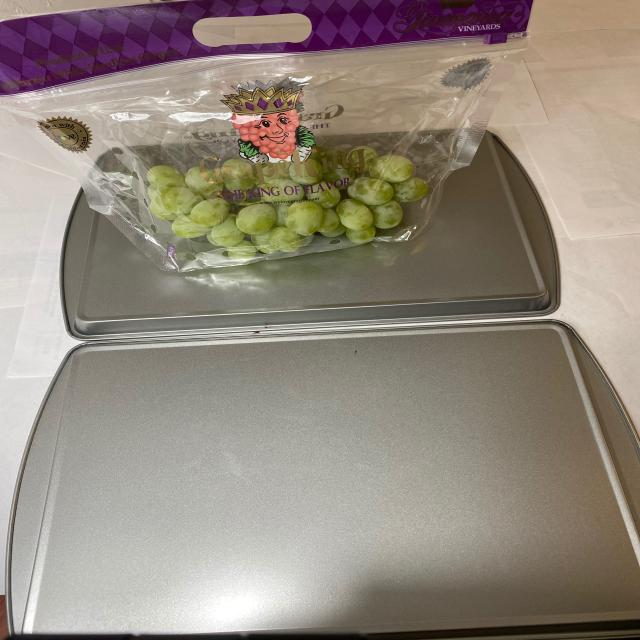grapes: (140, 138, 448, 270)
